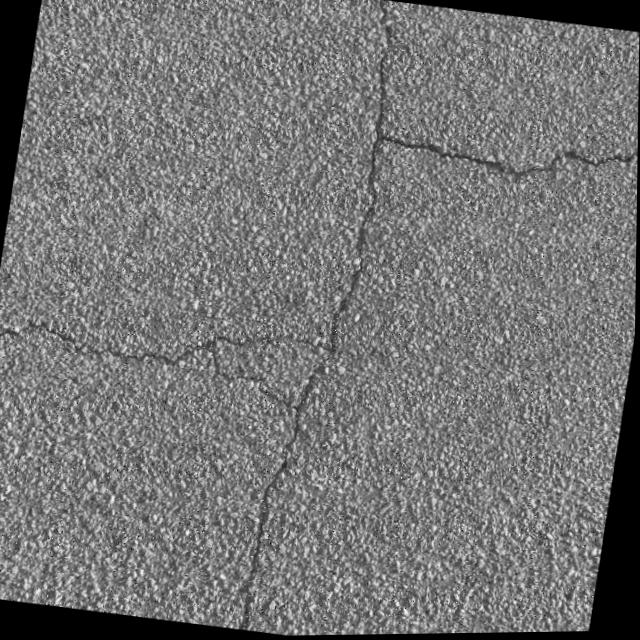Crack: (232, 0, 417, 637), (0, 275, 289, 398), (377, 106, 639, 214)
